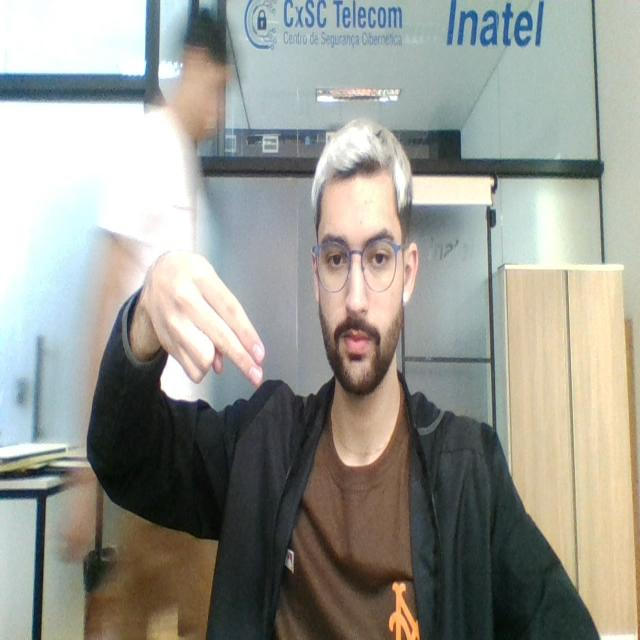N: (142, 238, 269, 398)
